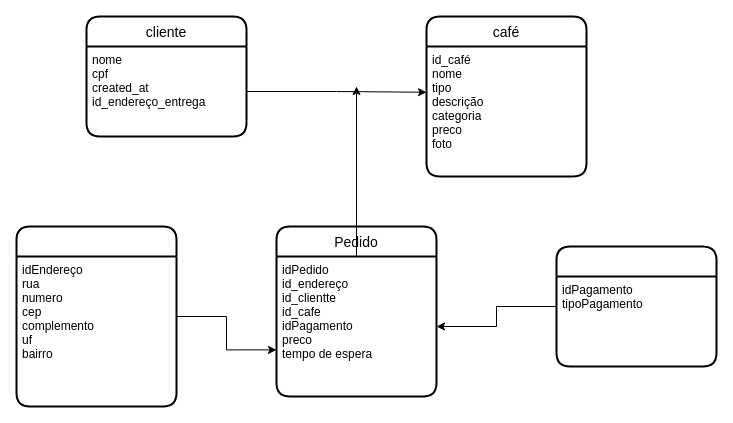
The diagram is 733 pixels wide and 423 high, and some of its shapes have lost their labels. Here are the shapes that lost their labels. From the top down, the box of each, then its label:
(15, 225, 177, 407): endereço de entrega
(555, 245, 717, 367): forma de Pagamento
